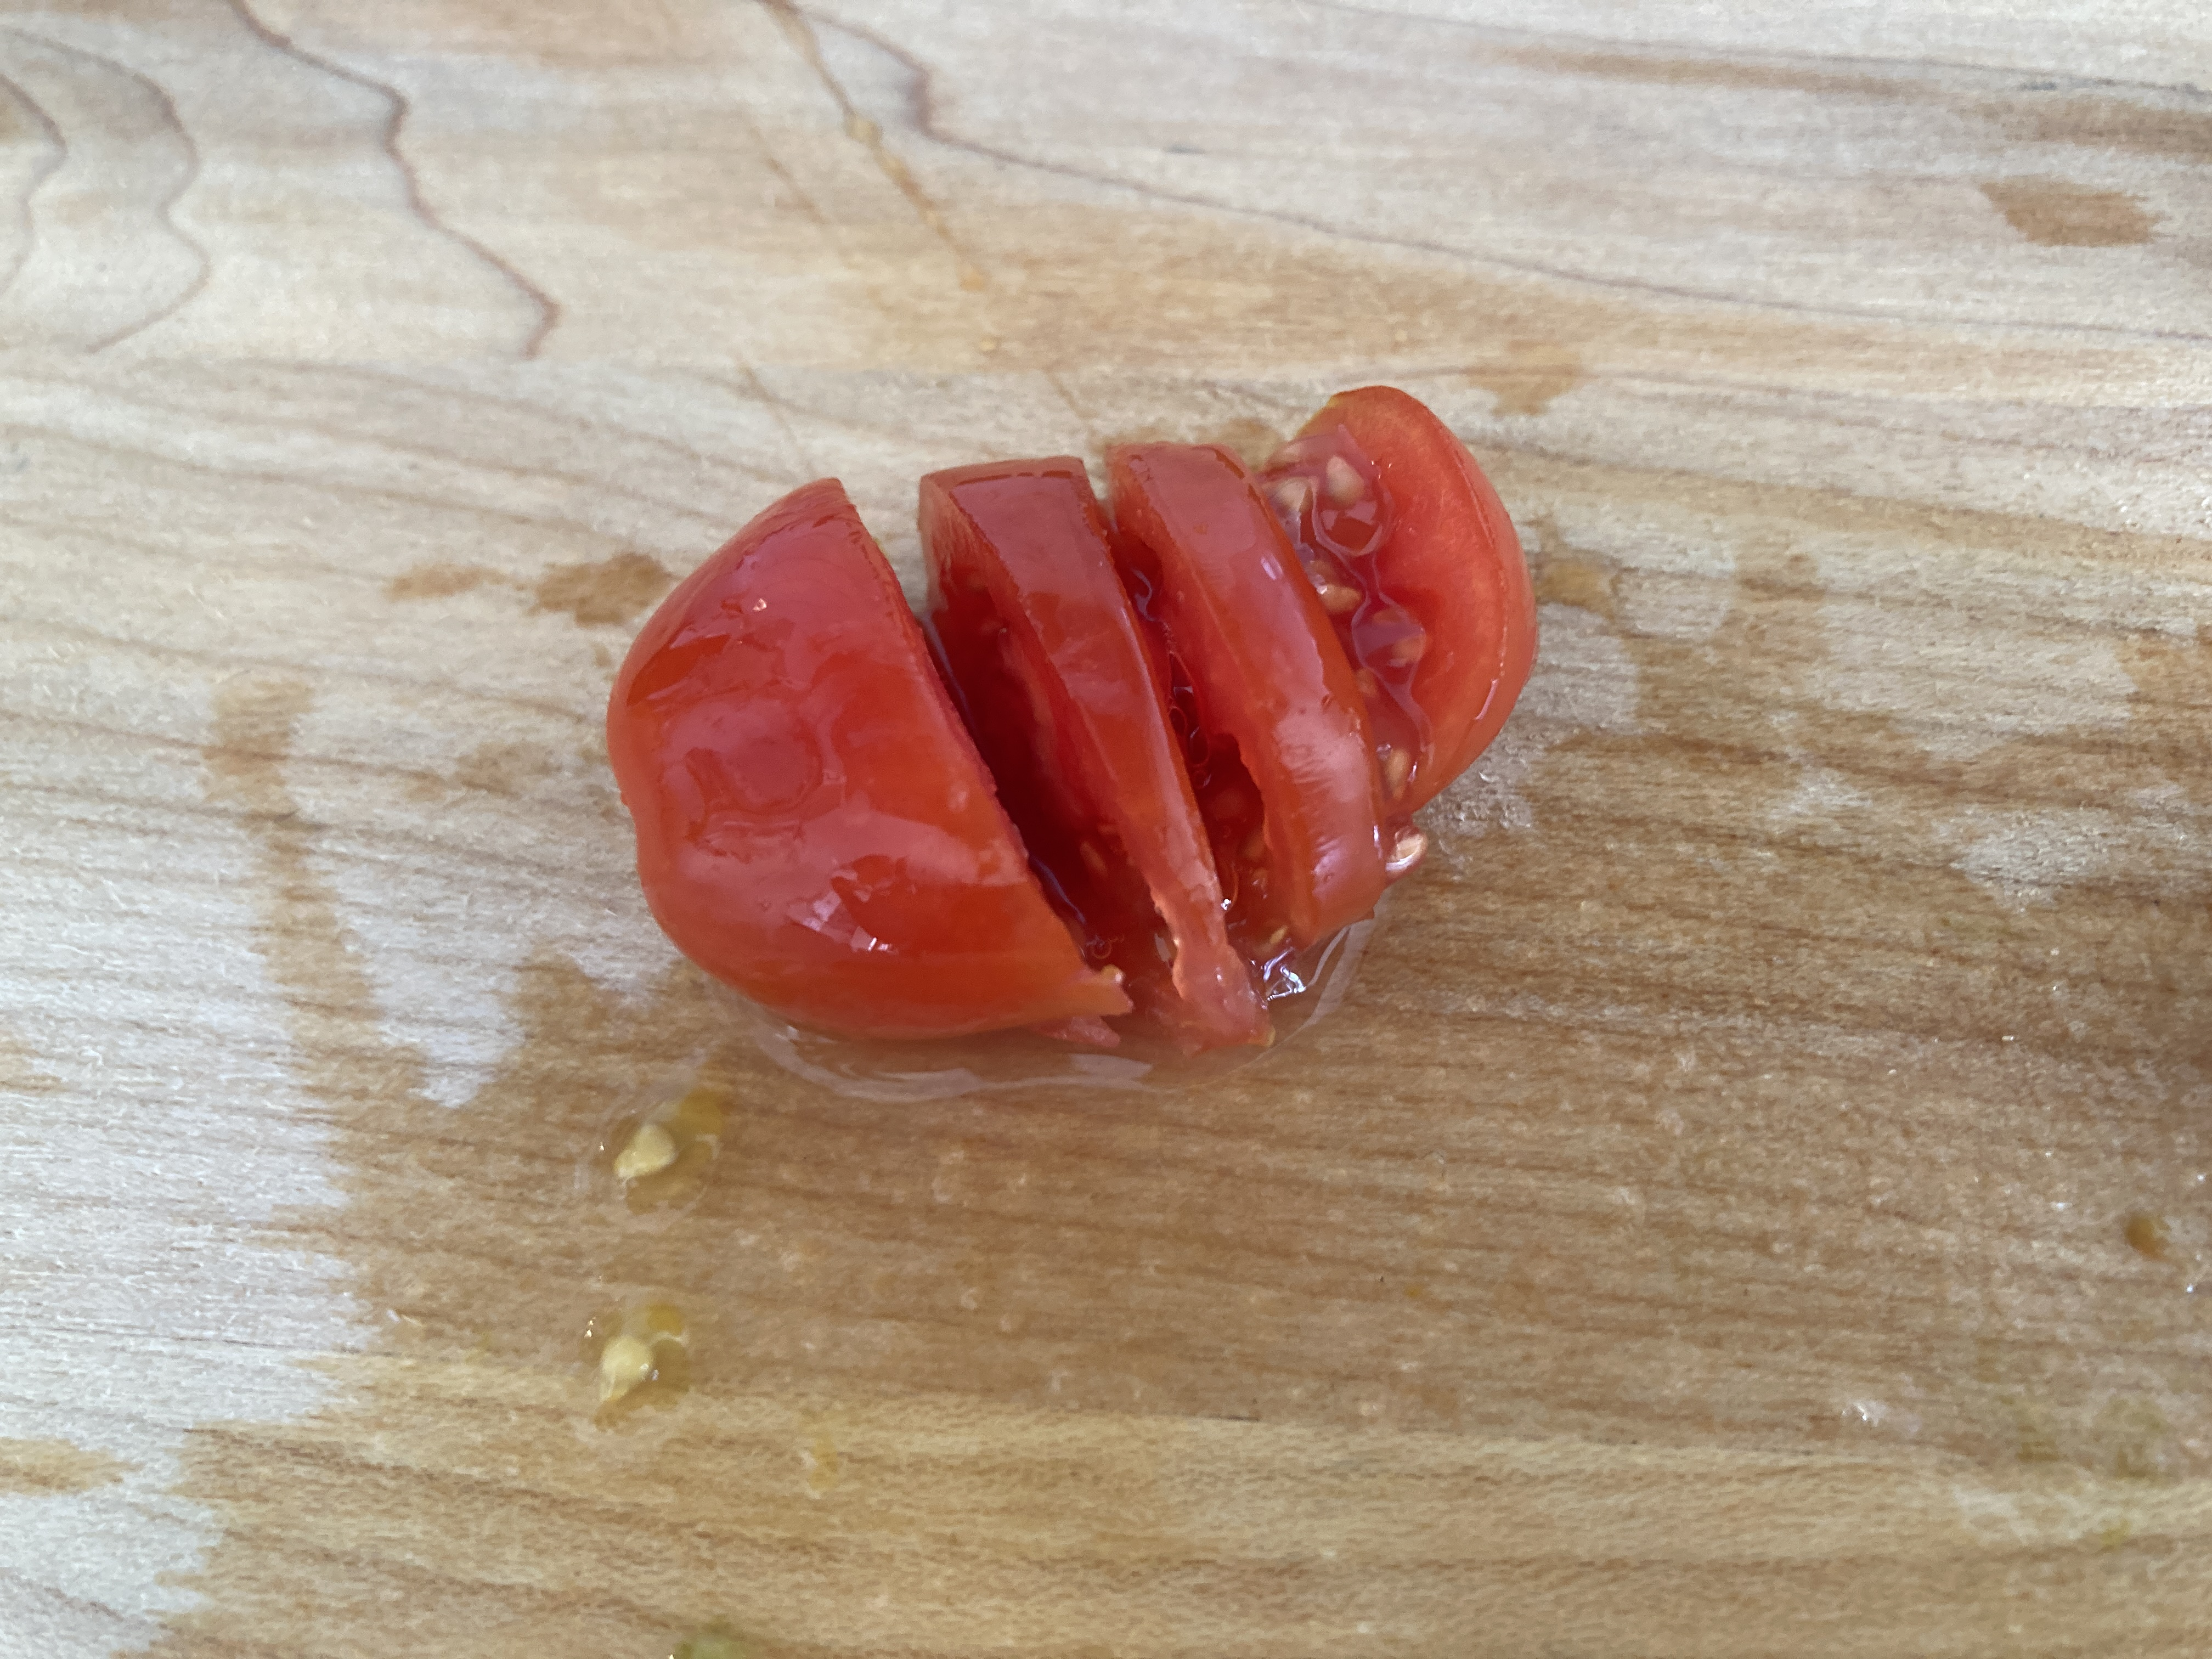healthy-tomato: (596, 383, 1534, 1058)
